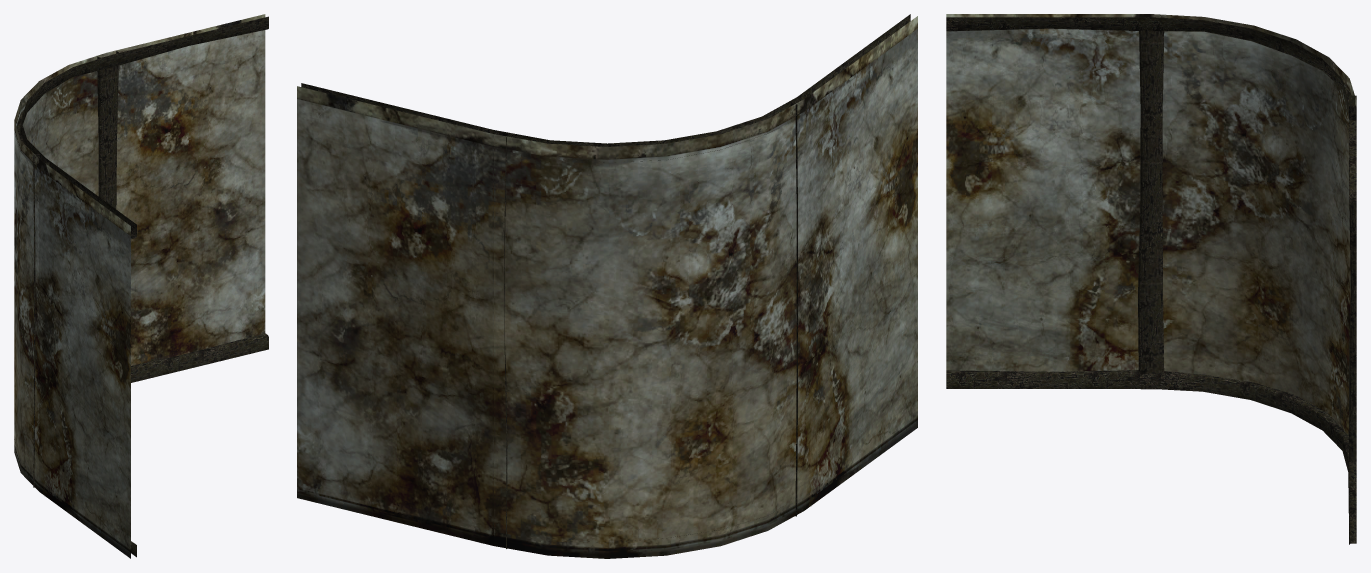
File: cellar_wall_03_corner.DAE
3 renders of one model, left to right at view 1: azimuth 30°, elevation 25°; view 2: azimuth 150°, elevation 25°; view 3: azimuth 270°, elevation 25°, orthographic. The views are drawn at different scales.
Visible parts, largest first — view 1: Box046, Box049; view 2: Box046, Box049; view 3: Box046, Box049.
Boxes of the visible parts, <box> form: Box046: <box>14,14,265,558</box>; Box049: <box>14,16,268,557</box>; Box046: <box>297,16,917,558</box>; Box049: <box>301,14,910,548</box>; Box046: <box>946,14,1356,434</box>; Box049: <box>946,17,1356,544</box>.
Bounding box in the file's own units: 4 × 4 × 4.
